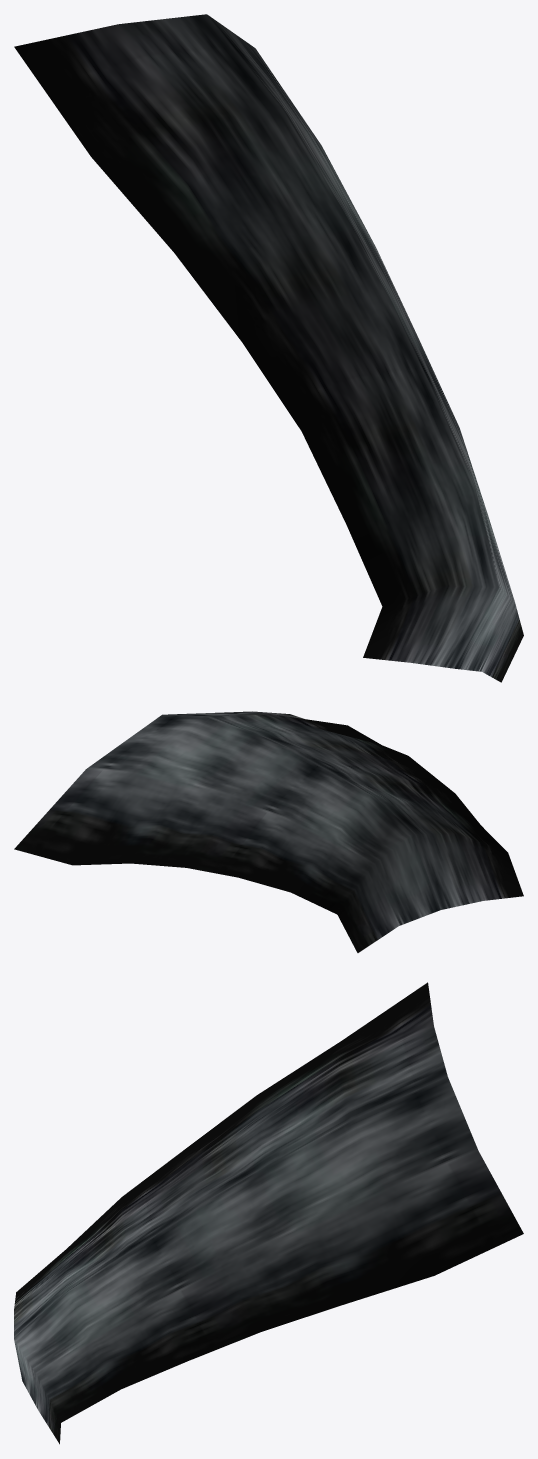
File: water28.obj
The picture shows the model from 3 angles, top to bottom: view 1: azimuth 30°, elevation 25°; view 2: azimuth 150°, elevation 25°; view 3: azimuth 270°, elevation 25°; orthographic projection. The views are drawn at different scales.
Visible parts, largest first — view 1: water28; view 2: water28; view 3: water28.
Part boxes in pixels (box(x1,y1,x2,y2)): water28: box(14, 14, 523, 682); water28: box(14, 711, 523, 952); water28: box(14, 982, 523, 1444).
Size of the model in its own units: 190 by 281 by 345.
